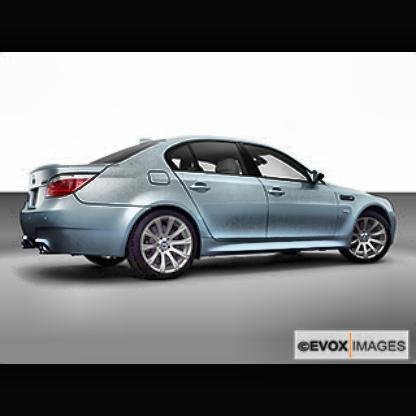BMW M5 Sedan 2010: (18, 135, 397, 285)
